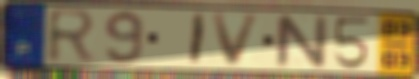5: (332, 15, 373, 70)
9: (102, 9, 146, 67)
I: (187, 12, 209, 66)
N: (273, 13, 331, 70)
R: (45, 7, 100, 66)
V: (209, 12, 264, 69)
